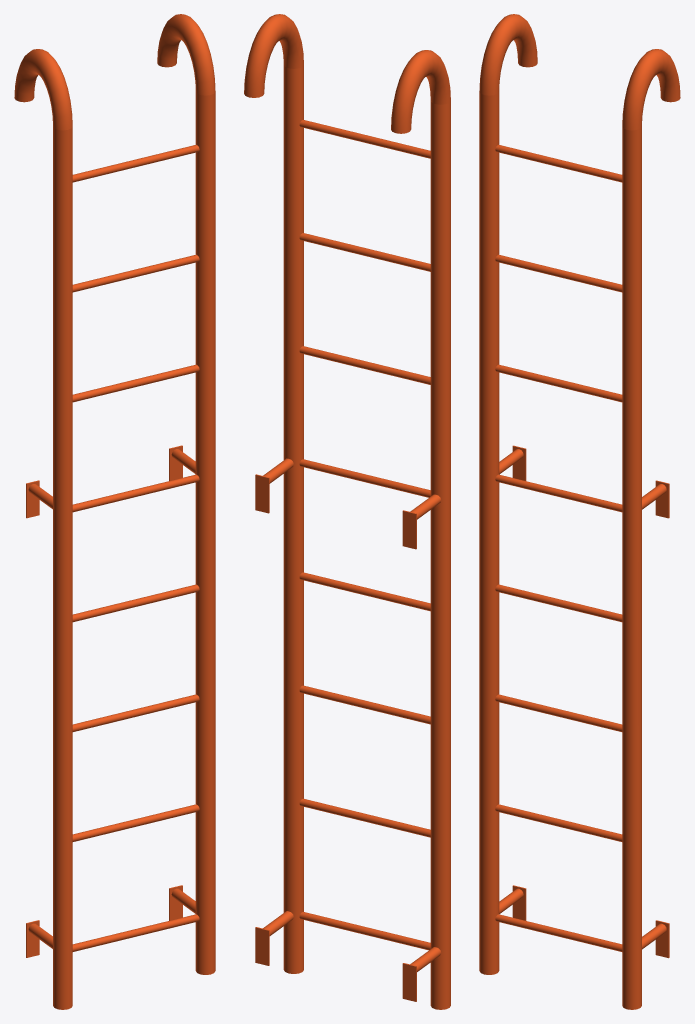
The picture shows the model from 3 angles, left to right: view 1: azimuth 30°, elevation 25°; view 2: azimuth 150°, elevation 25°; view 3: azimuth 330°, elevation 25°; orthographic projection. The views are drawn at different scales.
Visible parts, largest first — view 1: uploads_files_3346230_ladder2(1).001; view 2: uploads_files_3346230_ladder2(1).001; view 3: uploads_files_3346230_ladder2(1).001.
Part boxes in pixels (box(x1,y1,x2,y2)): uploads_files_3346230_ladder2(1).001: box(14, 14, 215, 1009); uploads_files_3346230_ladder2(1).001: box(244, 14, 450, 1009); uploads_files_3346230_ladder2(1).001: box(479, 14, 680, 1009).
Bounding box in the file's own units: 3.75 × 21.07 × 1.97.
